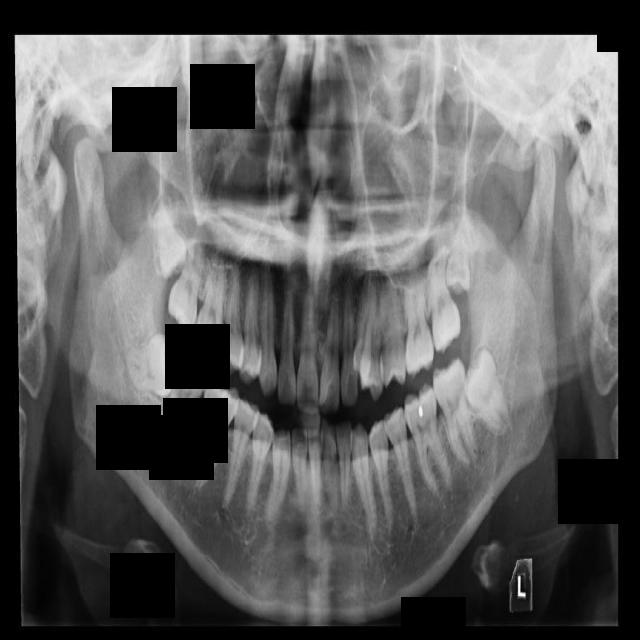3M ESPE Implant: (152, 200, 189, 279)
52: (403, 383, 437, 435)
BioHorizons Implant: (421, 236, 464, 354)
BioLife Implant: (447, 226, 471, 294)
Biomet 3i Implant: (455, 343, 515, 440)
Blue Sky Bio Implant: (428, 354, 480, 468)
Caries: (163, 239, 207, 336)
Implant: (156, 345, 213, 461)
Keystone Dental Implant: (123, 331, 175, 401)
